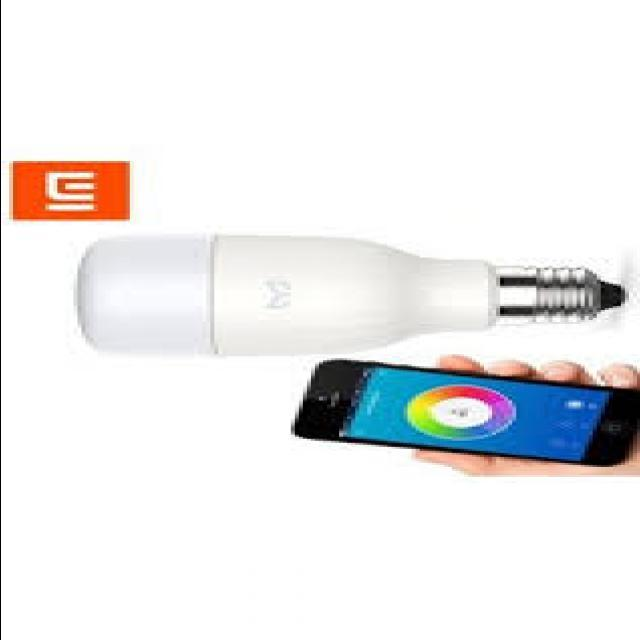light_bulb: (57, 221, 631, 367)
